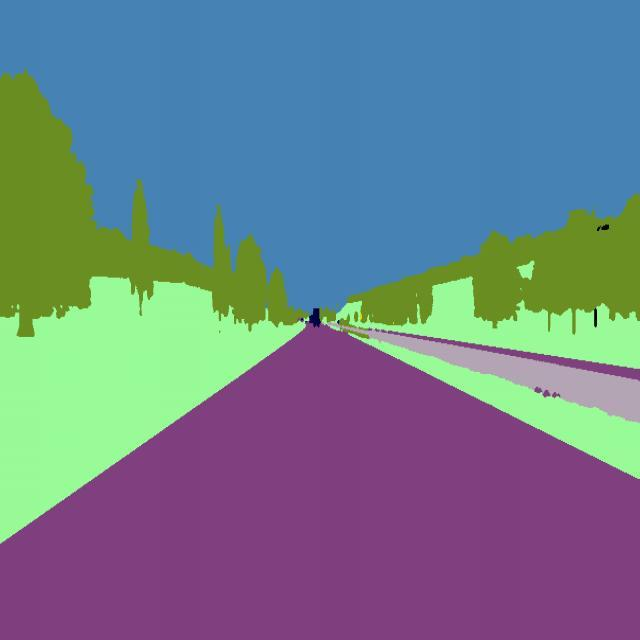safe: (310, 304, 322, 334)
